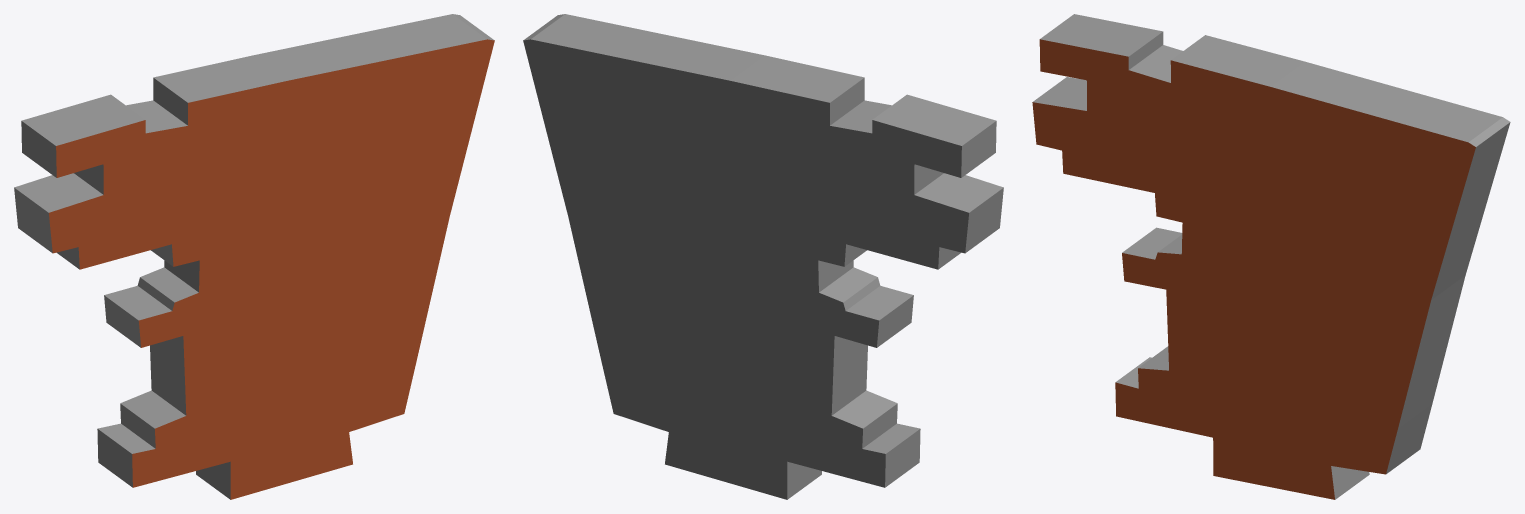
The model's file is construction_7116_assumed_A_Casa_h6m.obj.
3 views of the same model, side by side, from view 1: azimuth 30°, elevation 25°; view 2: azimuth 150°, elevation 25°; view 3: azimuth 330°, elevation 25° (orthographic).
Parts seen in each view (by area): view 1: construction_7116_assumed_A_Casa; view 2: construction_7116_assumed_A_Casa; view 3: construction_7116_assumed_A_Casa.
Boxes of the visible parts, bbox=[...] form: construction_7116_assumed_A_Casa: bbox=[14, 14, 494, 499]; construction_7116_assumed_A_Casa: bbox=[523, 14, 1003, 499]; construction_7116_assumed_A_Casa: bbox=[1032, 14, 1510, 499].
Size of the model in its own units: 44.53 by 38.87 by 6.
